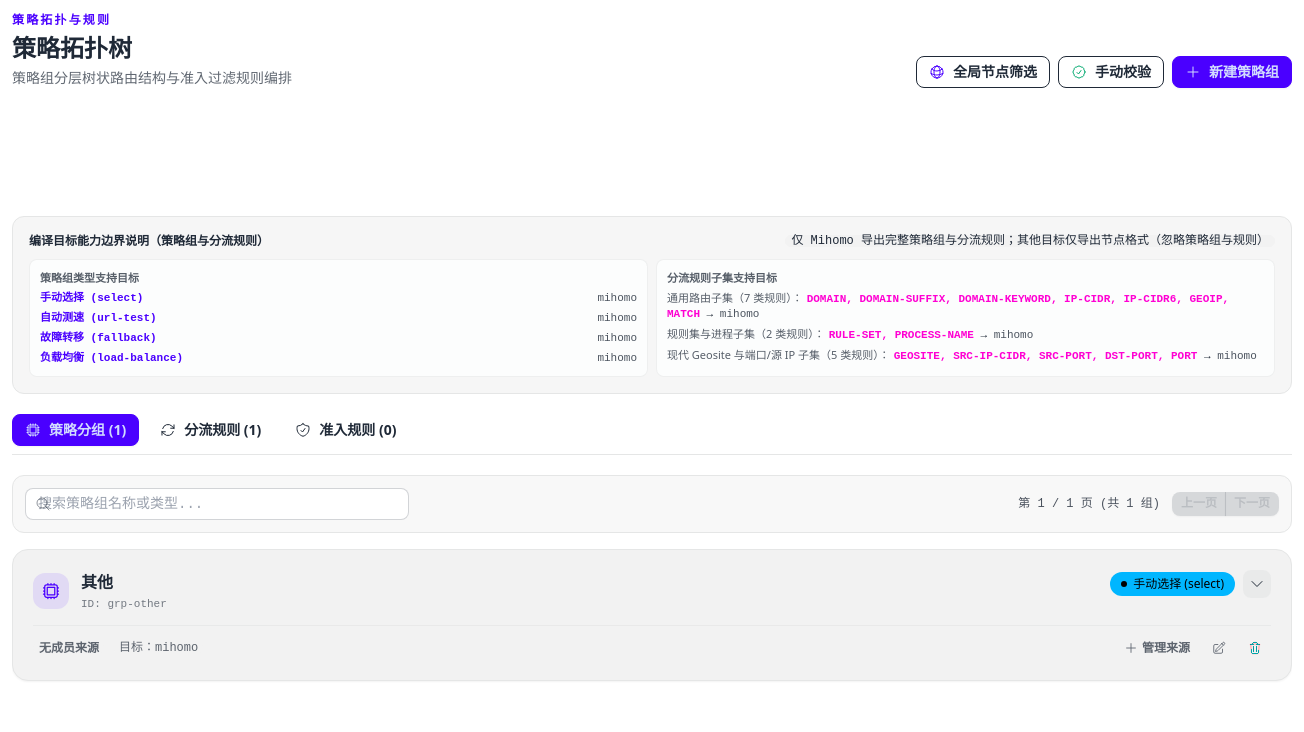
Test: PolicyView Topology & Drawer Linkage › renders routing rules tab with inline error diagnostics and responsive mobile layout
The width and height of the screenshot is (1304, 732).
Click the button with test id "rules-tab-btn" at (211, 430), box [147,414,274,446]
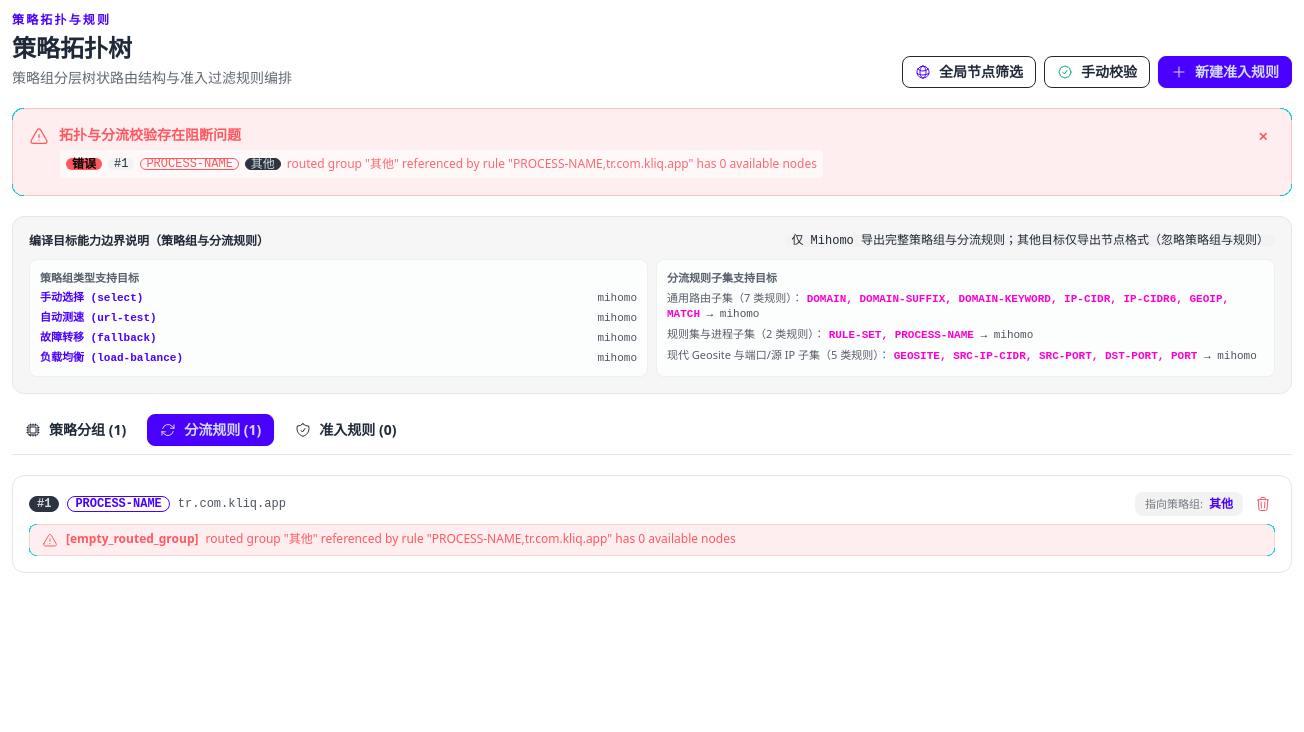
Now the element with test id "policy-rule-card-0" is shown, box [12,475,1292,573]
Now the element with test id "policy-rule-card-0" shows "PROCESS-NAME", box [75,497,162,511]
Now the element with test id "policy-rule-card-0" shows "tr.com.kliq.app", box [178,497,286,511]
